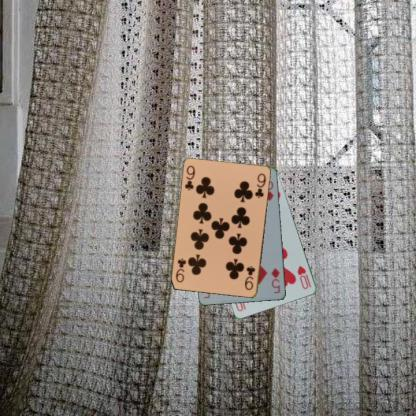10h: (294, 263, 312, 291)
5d: (269, 265, 281, 295)
9c: (242, 263, 257, 292), (182, 163, 196, 192)
